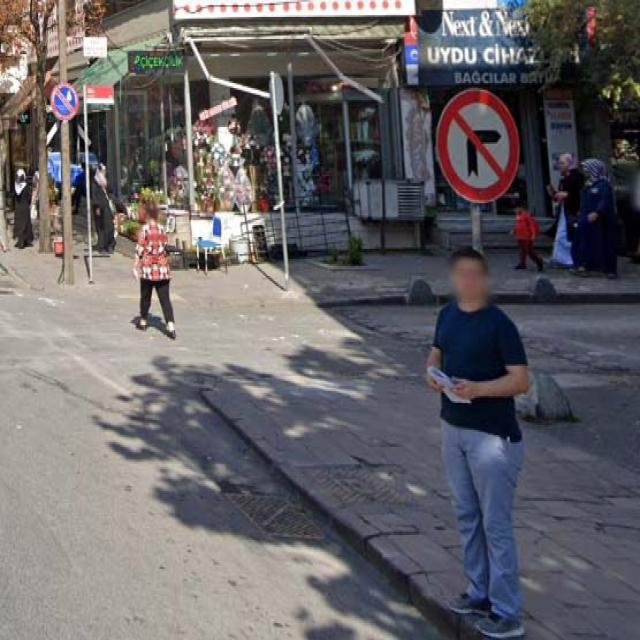parkyasak: (51, 83, 78, 118)
sagadonulmez: (436, 88, 519, 202)
